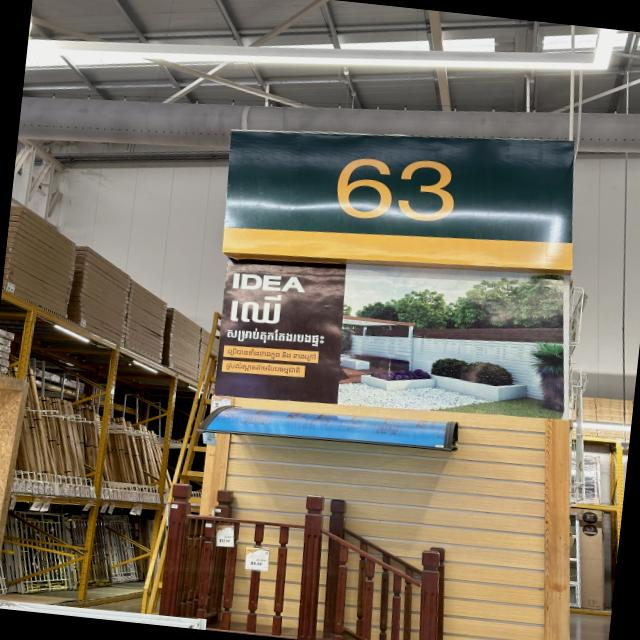1: (224, 345, 317, 363)
Yolov11kh: (221, 289, 289, 329), (220, 326, 327, 351), (222, 358, 301, 375)
